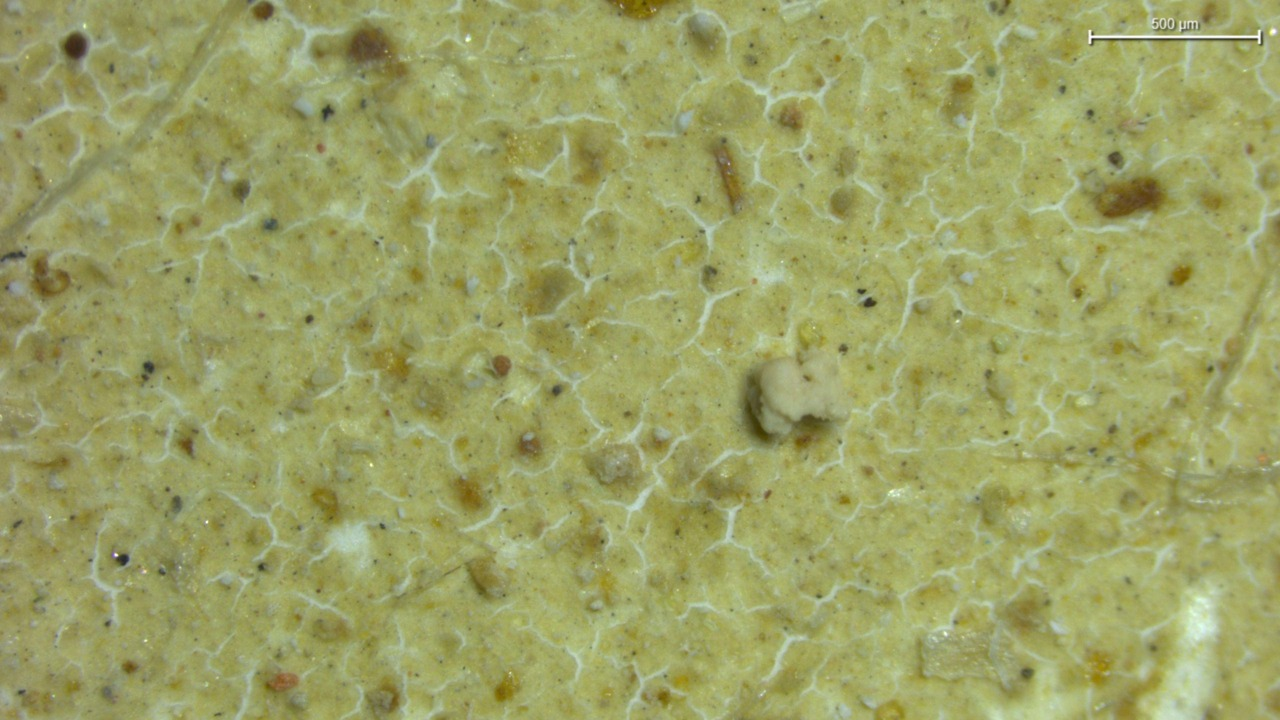microplastic_fragment: (747, 350, 855, 429), (471, 557, 510, 597)
